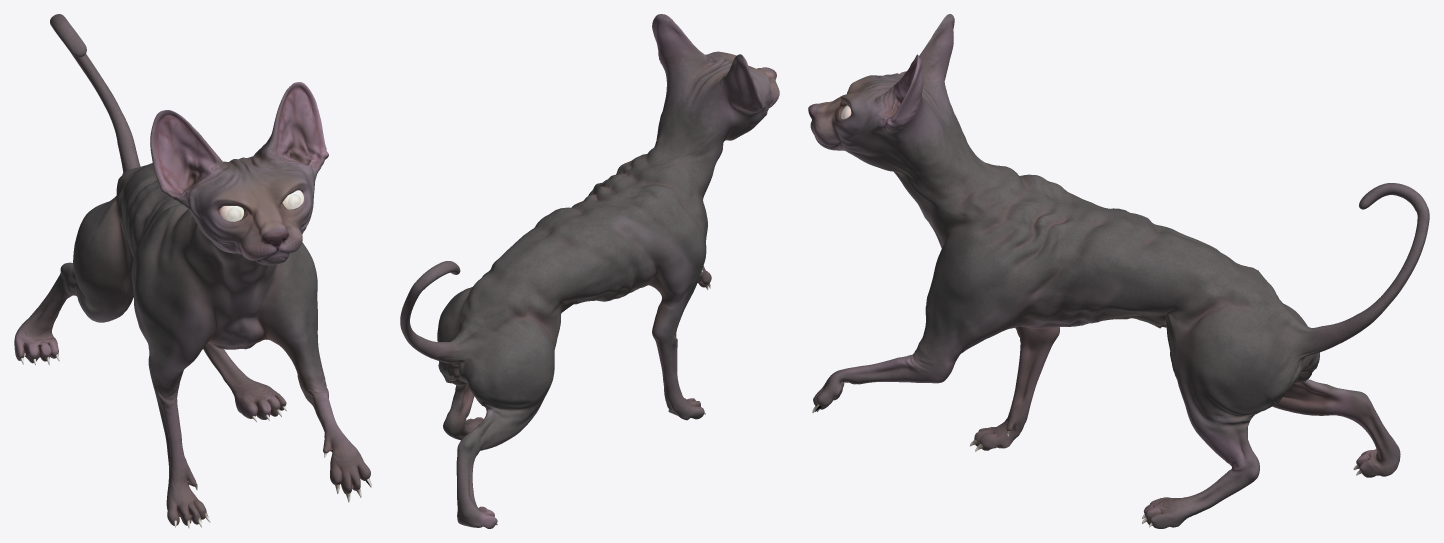
Rendered from sphynx-original.glb.
The picture shows the model from 3 angles, left to right: view 1: azimuth 30°, elevation 25°; view 2: azimuth 150°, elevation 25°; view 3: azimuth 270°, elevation 25°; orthographic projection. The views are drawn at different scales.
Visible parts, largest first — view 1: CatBase.001_4, BK_Sclera_1; view 2: CatBase.001_4; view 3: CatBase.001_4.
Part boxes in pixels (x1,y1,x2,y2): CatBase.001_4: [14, 14, 370, 525]; BK_Sclera_1: [219, 190, 303, 221]; CatBase.001_4: [400, 14, 779, 528]; CatBase.001_4: [808, 14, 1429, 528].
Size of the model in its own units: 0.8675 by 1.52 by 2.02.
5 materials, 4 textured.
